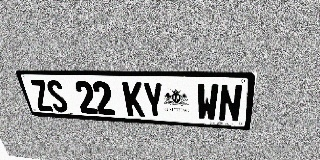2: (73, 81, 98, 114), (91, 81, 115, 115)
K: (122, 82, 145, 117)
N: (218, 84, 243, 122)
S: (44, 80, 69, 112)
W: (197, 83, 219, 121)
Y: (142, 82, 164, 118)
Z: (28, 80, 54, 111)
